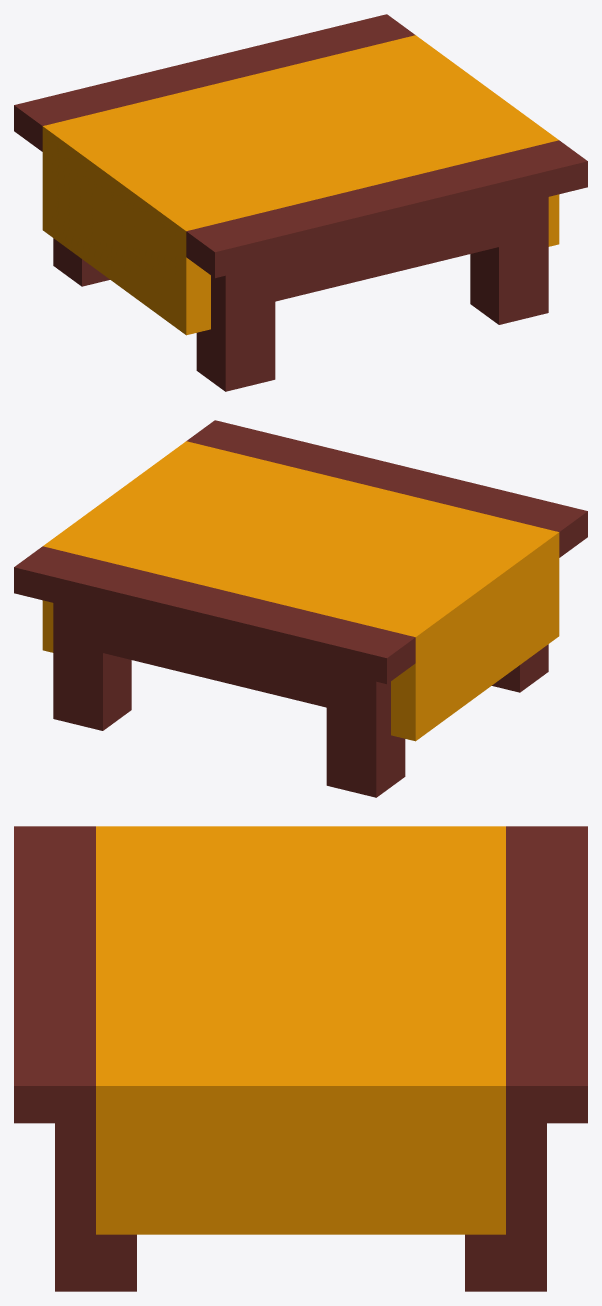
Rendered from small_table_b_yellow.obj.
3 views of the same model, one above another, from view 1: azimuth 30°, elevation 25°; view 2: azimuth 150°, elevation 25°; view 3: azimuth 270°, elevation 25° (orthographic). The views are drawn at different scales.
Bounding box in the file's own units: 1.5 × 0.6 × 1.4.
1 material, 1 textured.
